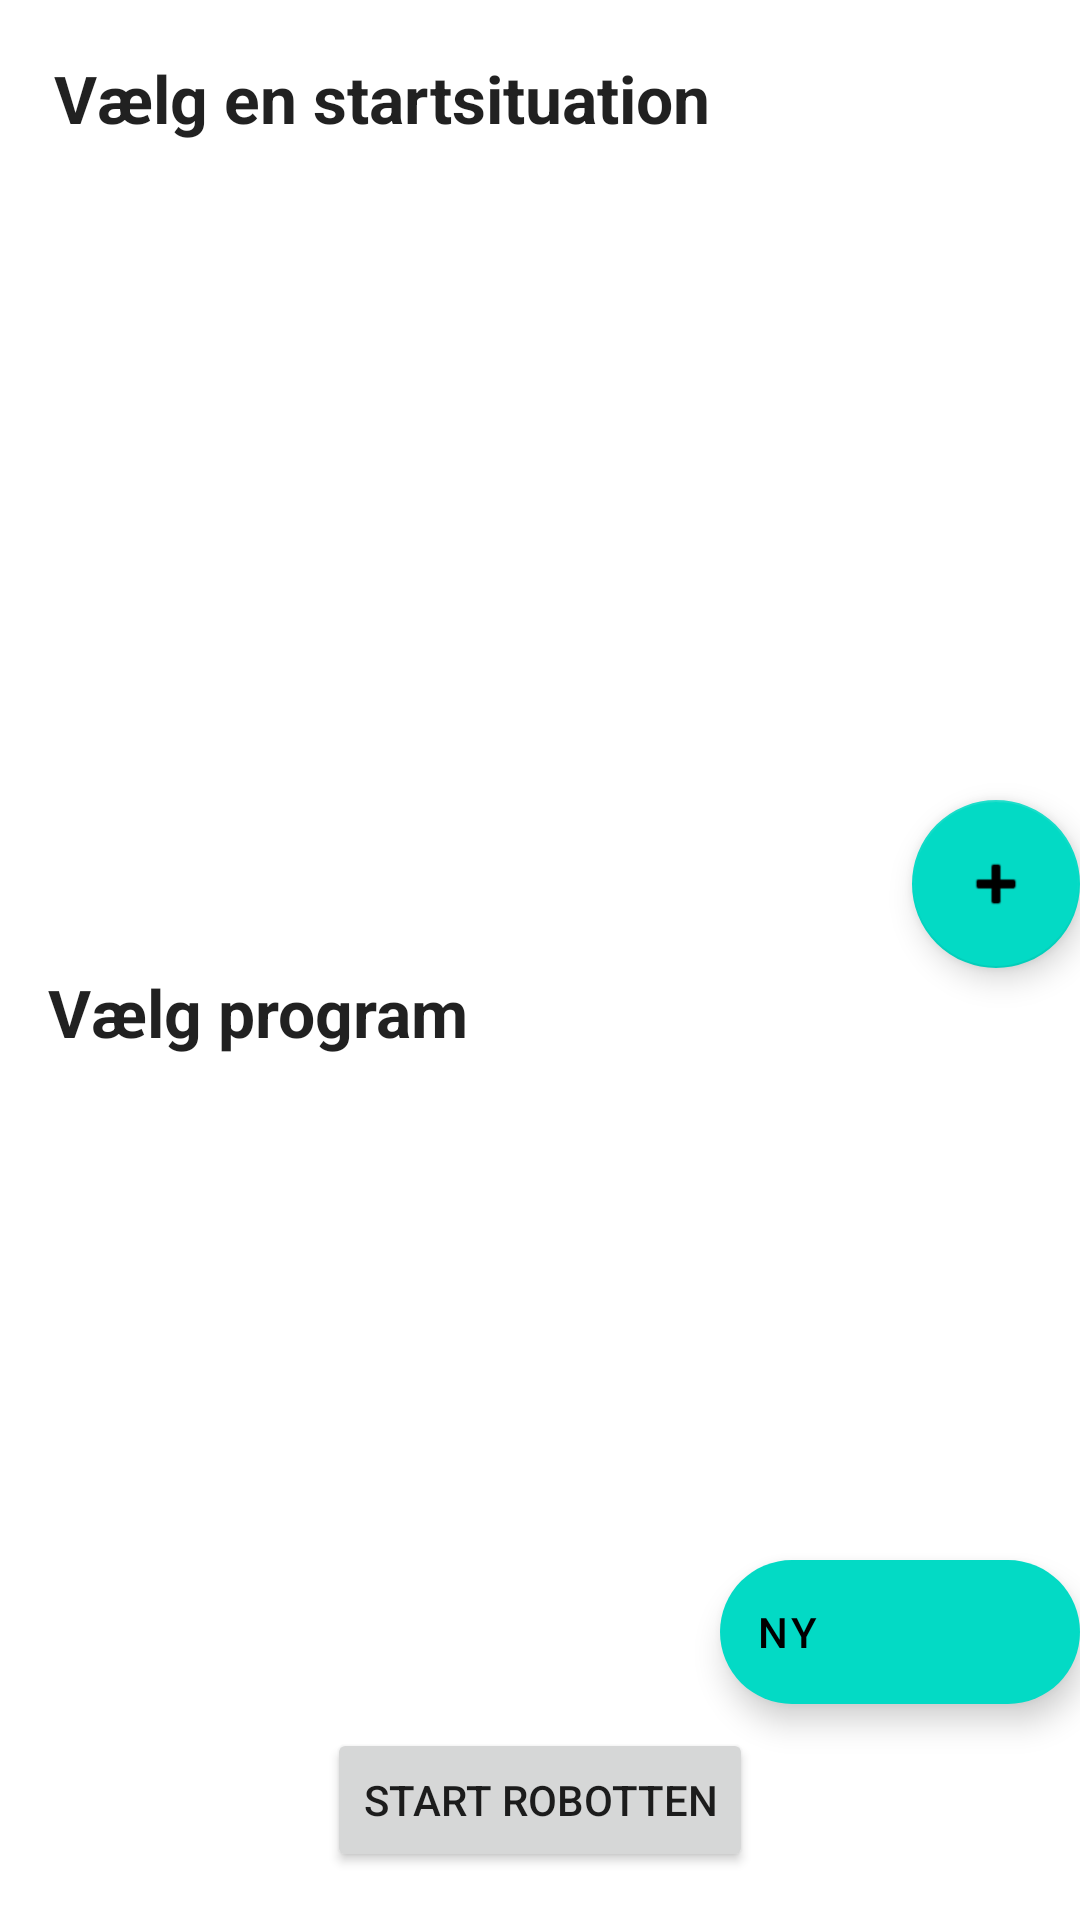

Icons on this 1080w x 1920h Android screen, each with its box as (x1, y1, x2, y2):
add: (912, 800, 1080, 968)
